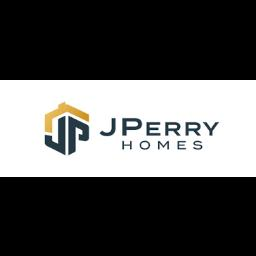e: (145, 118, 163, 136)
h: (120, 138, 136, 152)
j: (42, 113, 66, 157), (98, 114, 120, 138)
m: (156, 138, 172, 152)
o: (139, 139, 151, 149)
p: (68, 112, 90, 156), (122, 116, 142, 138)
r: (164, 120, 182, 136)
s: (193, 138, 205, 152)
y: (203, 118, 221, 138)
